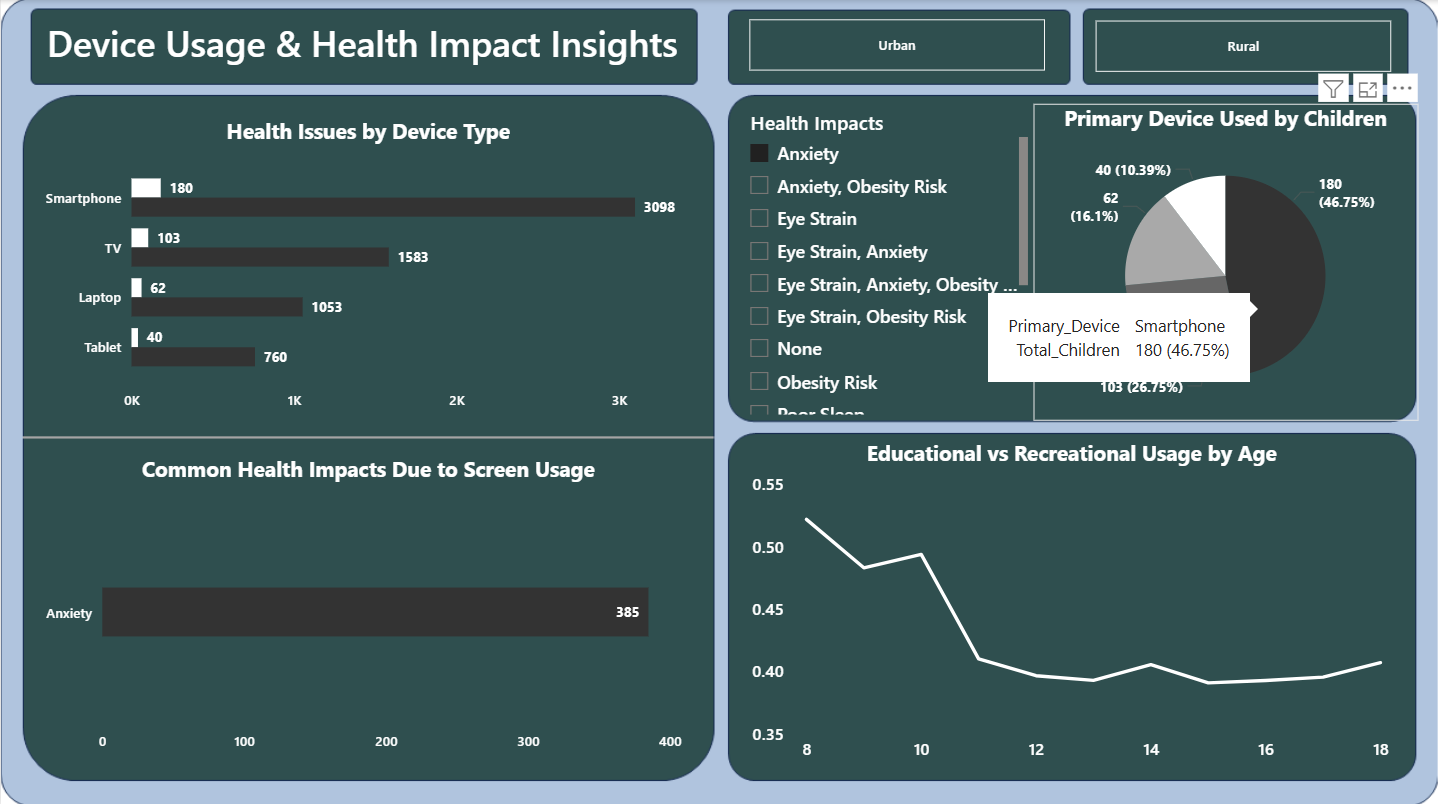

The dashboard page shown, as its layout file describes it:
{"tool":"powerbi","page":{"name":" Device & Health Impact Insights","canvas":[1280,720],"ordinal":1},"visuals":[{"type":"pieChart","title":" Primary Device Used by Children","fields":{"Category":["Table.Primary_Device"],"Y":["Table.Total_Children"]},"box":[919.9,92.8,342.1,282.2],"z":0},{"type":"barChart","title":"Common Health Impacts Due to Screen Usage","fields":{"Category":["Table.Health_Impacts"],"Y":["Table.Total_Children"]},"box":[33,405.6,587.6,273.6],"z":1000},{"type":"clusteredBarChart","title":"Health Issues by Device Type","fields":{"Category":["Table.Primary_Device"],"Y":["CountNonNull(Table.Health_Impacts)","Table.Children_With_Health_Issues"]},"box":[33,103.8,587.6,271.2],"z":2000},{"type":"lineChart","title":"Educational vs Recreational Usage by Age","fields":{"Y":["Table.Avg_Edu_Recreational_Ratio"],"Category":["Table.Age"]},"box":[663.3,390.9,580.3,296.9],"z":3000},{"type":"slicer","fields":{"Values":["Table.Urban_or_Rural"]},"box":[640.1,9.8,314,59.9],"z":4000},{"type":"slicer","fields":{"Values":["Table.Health_Impacts"]},"box":[654.8,92.8,265.1,282.2],"z":5000},{"type":"slicer","fields":{"Values":["Table.Urban_or_Rural"]},"box":[948,11,314,59.9],"z":6000},{"type":"textbox","box":[32.6,10.9,579.1,59.1],"z":7000}]}

Visuals, with their boxes in screenshot pixels (x1, y1, x2, y2), scaled from the page's 1280x720 canvas onto the 1438x804 screenshot:
" Primary Device Used by Children" pieChart: {"x1": 1033, "y1": 104, "x2": 1418, "y2": 419}
"Common Health Impacts Due to Screen Usage" barChart: {"x1": 37, "y1": 453, "x2": 697, "y2": 758}
"Health Issues by Device Type" clusteredBarChart: {"x1": 37, "y1": 116, "x2": 697, "y2": 419}
"Educational vs Recreational Usage by Age" lineChart: {"x1": 745, "y1": 437, "x2": 1397, "y2": 768}
slicer - Table.Urban_or_Rural: {"x1": 719, "y1": 11, "x2": 1072, "y2": 78}
slicer - Table.Health_Impacts: {"x1": 736, "y1": 104, "x2": 1033, "y2": 419}
slicer - Table.Urban_or_Rural: {"x1": 1065, "y1": 12, "x2": 1418, "y2": 79}
textbox: {"x1": 37, "y1": 12, "x2": 687, "y2": 78}
